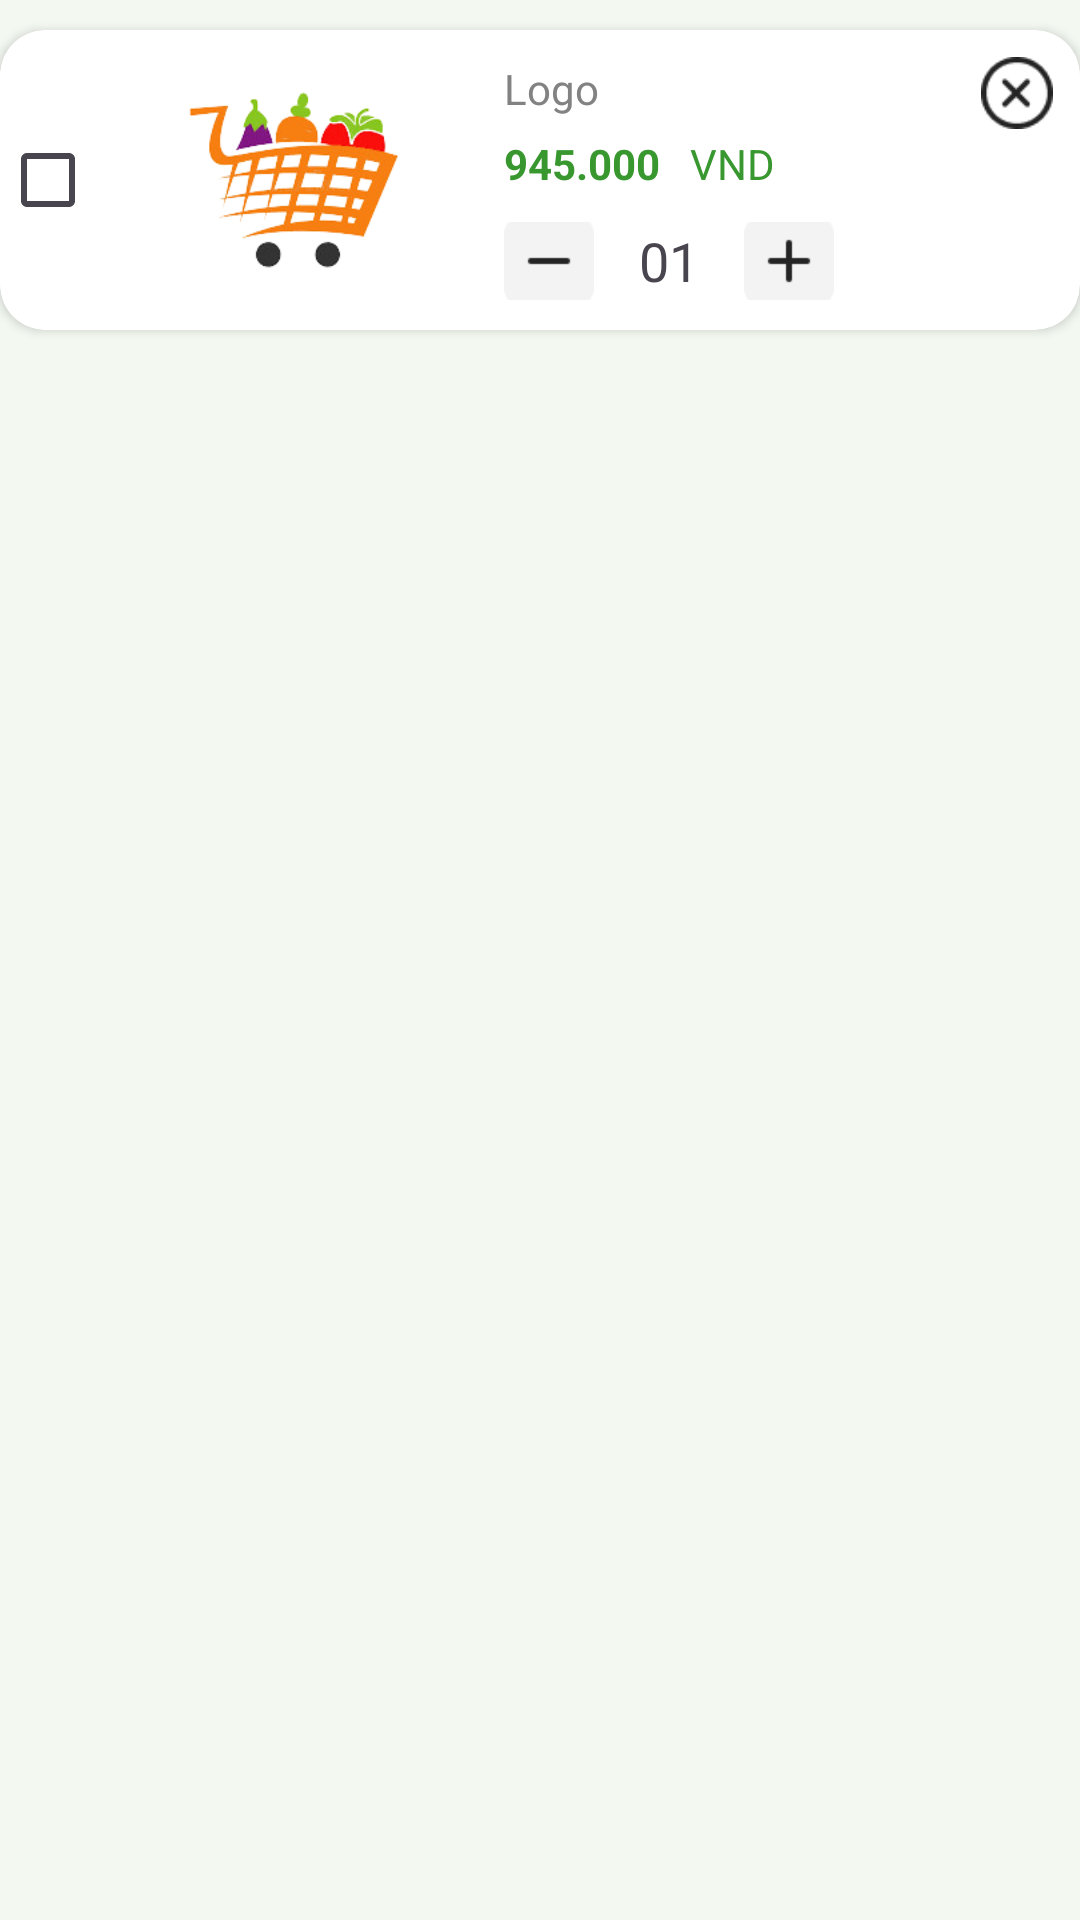

Locate icon controls on the screen. Image size 1080w x 1920h, boxes as (x1, y1, x2, y2).
delete: (981, 57, 1053, 129)
